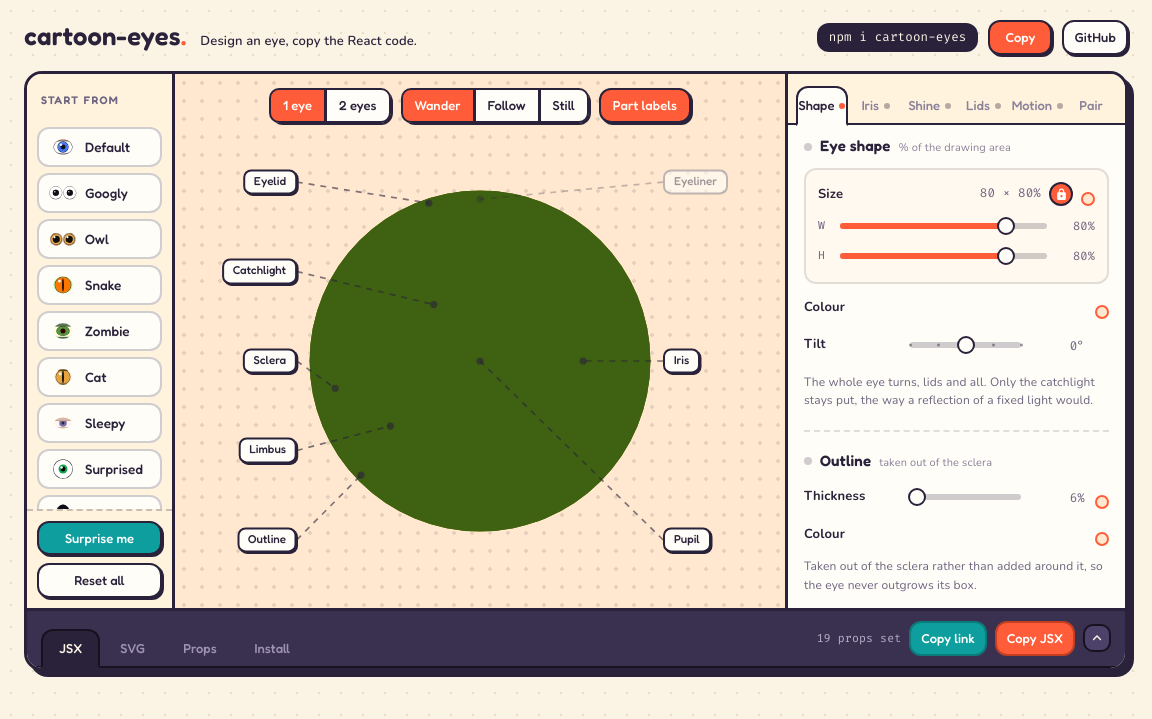
Test case: playground › draws a pair with the real EyePair, and writes EyePair code for it
Step 1. Click the button "2 eyes" → (358, 105), box [325,88,390,123]
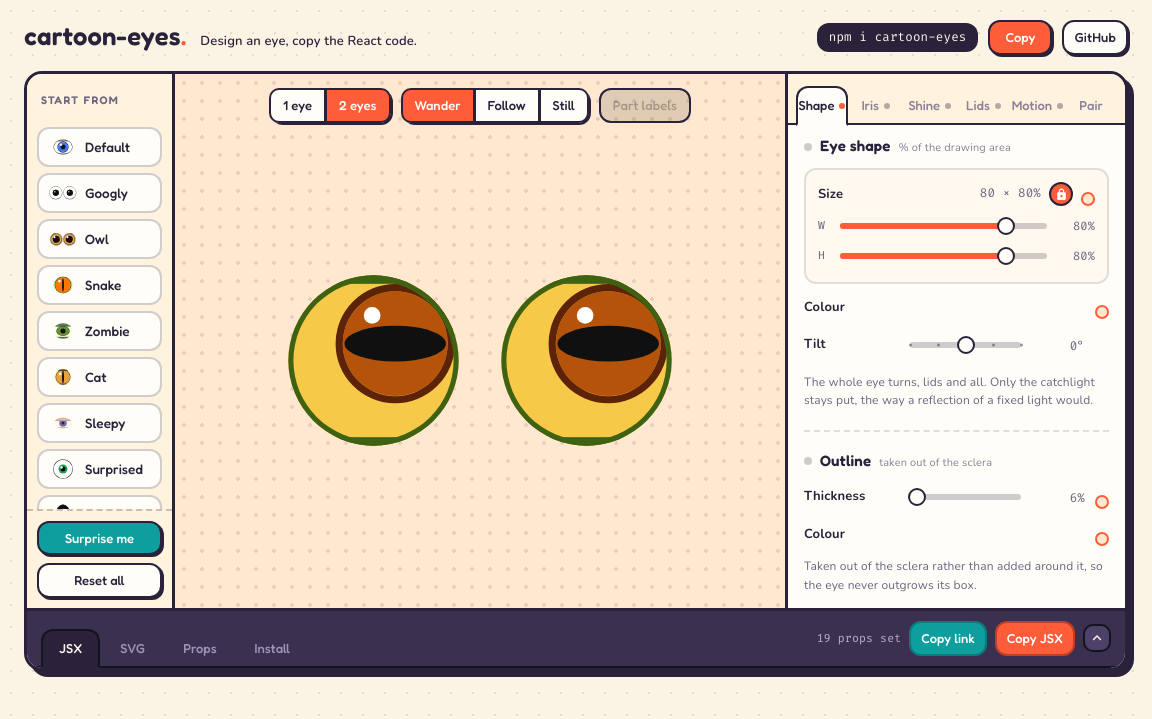
Expected: the 3rd element with class "cartoon-eye-pair" is shown, [267,254,693,467]
